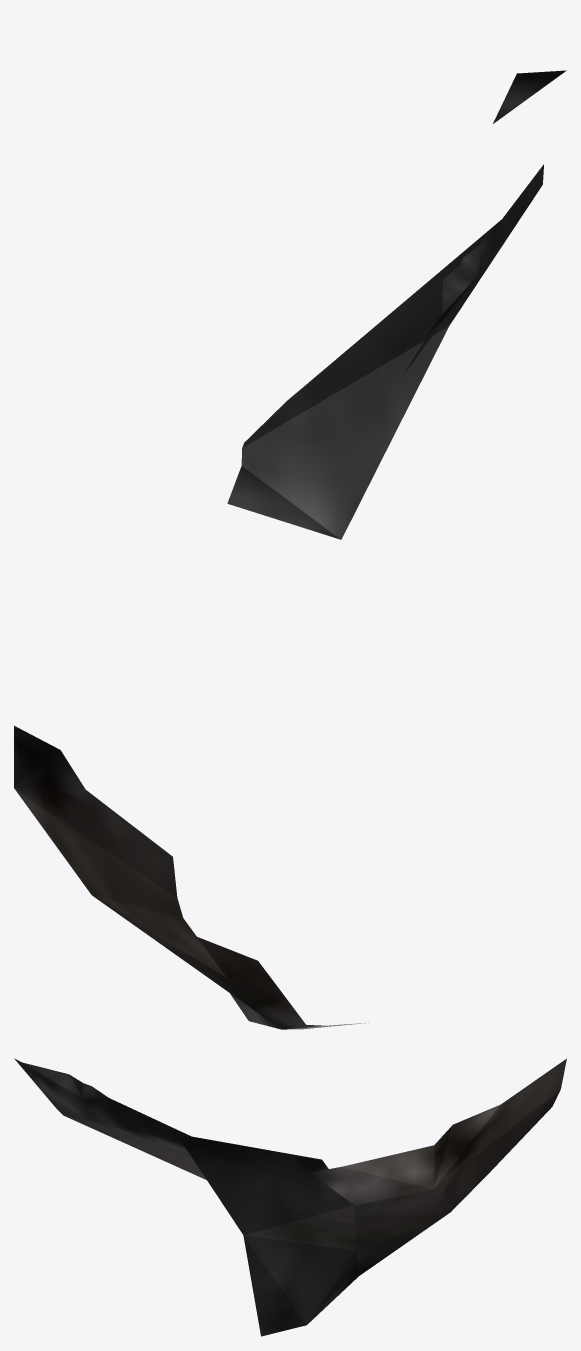
The picture shows the model from 3 angles, top to bottom: view 1: azimuth 30°, elevation 25°; view 2: azimuth 150°, elevation 25°; view 3: azimuth 270°, elevation 25°; orthographic projection. The views are drawn at different scales.
Size of the model in its own units: 0.1135 by 0.1149 by 0.2322.
Materials: 1 (1 with a texture image).
